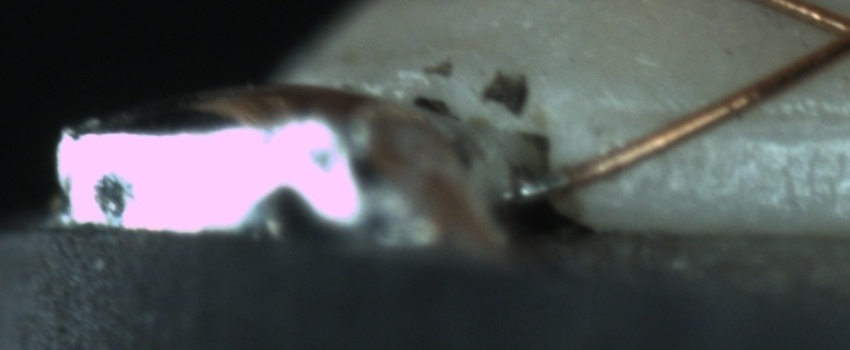CL: (804, 2, 850, 68)
DL: (610, 83, 846, 154)
TS: (505, 170, 568, 201)
